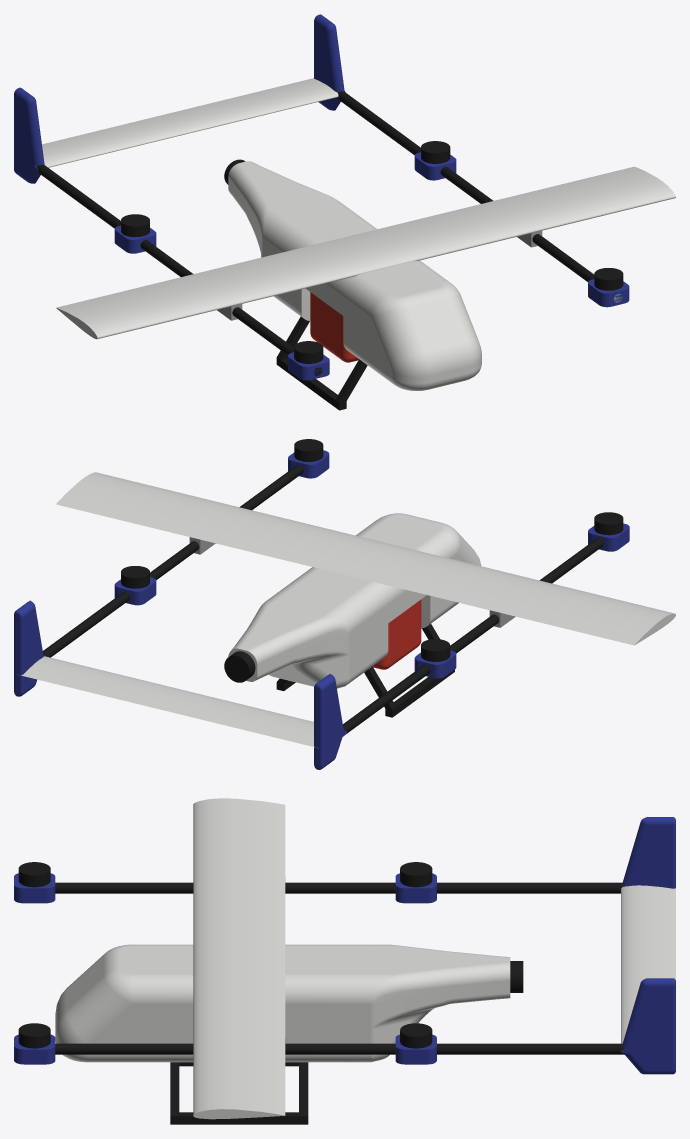
File: medvtol.obj
The picture shows the model from 3 angles, top to bottom: view 1: azimuth 30°, elevation 25°; view 2: azimuth 150°, elevation 25°; view 3: azimuth 270°, elevation 25°; orthographic projection. The views are drawn at different scales.
Parts seen in each view (by area): view 1: medvtol; view 2: medvtol; view 3: medvtol.
Boxes of the visible parts, x1,y1,x2,y2 form: medvtol: (14, 14, 675, 410); medvtol: (14, 439, 675, 769); medvtol: (14, 798, 675, 1124).
Size of the model in its own units: 80 by 23.5 by 72.01.
